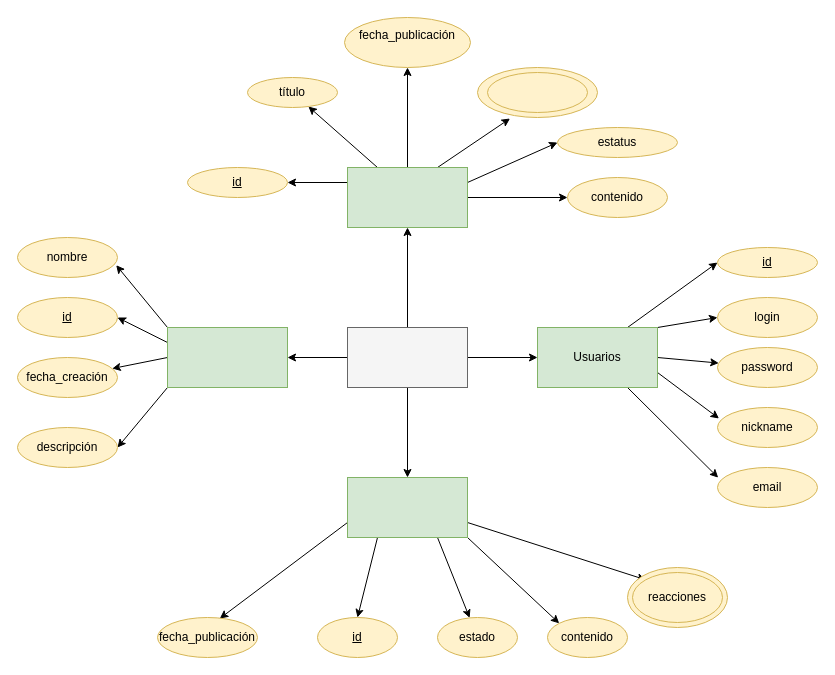
Image size: 835x675. Some labels were removed from this diagram. The shapes that lost their labels are listed below. From the top down, each one's box as (x1, y1, x2, y2) in pixels, then its label:
(486, 72, 588, 112): etiquetas
(346, 166, 468, 228): Post
(166, 326, 288, 388): Categorías
(346, 326, 468, 388): Platzi Blog
(346, 476, 468, 538): Comentarios
